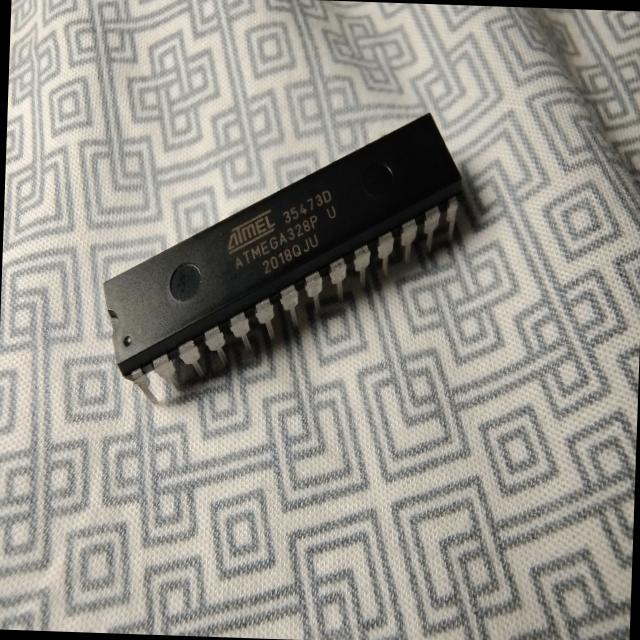atmega: (96, 98, 468, 416)
